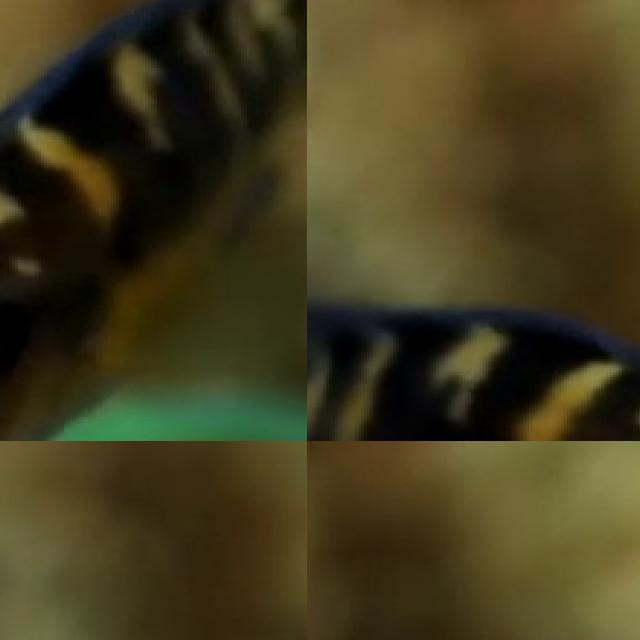fish: (0, 0, 307, 441), (307, 282, 640, 441)
